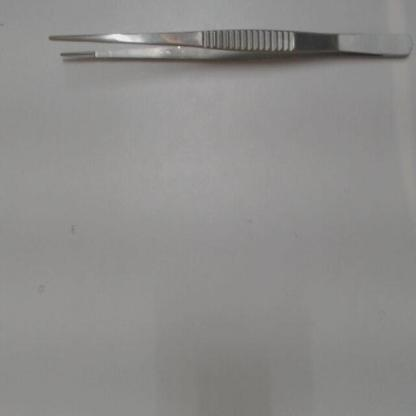DeBakey Dissector: (13, 19, 415, 108)
